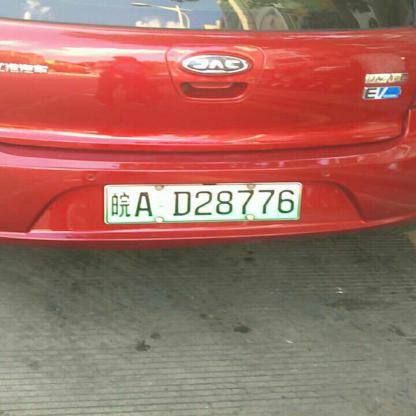lp: (105, 182, 301, 225)
